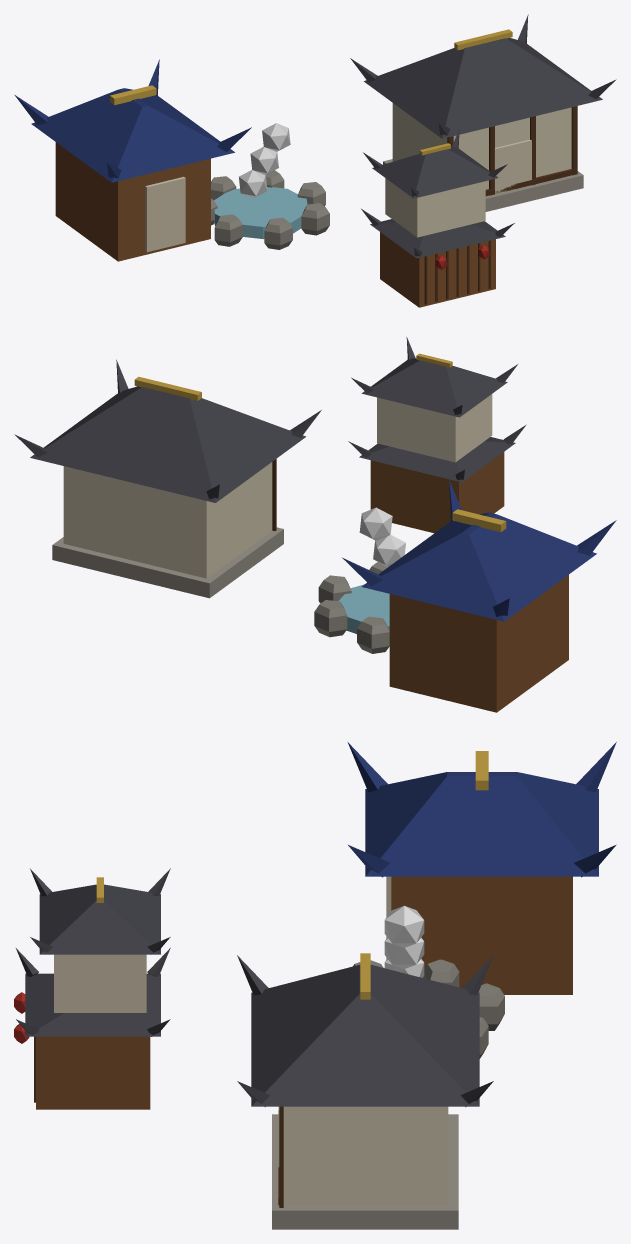
Rendered from macaque_compound_broken.glb.
3 renders of one model, top to bottom at view 1: azimuth 30°, elevation 25°; view 2: azimuth 150°, elevation 25°; view 3: azimuth 270°, elevation 25°, orthographic. The views are drawn at different scales.
Visible parts, largest first — view 1: macaque_compound_piece9, macaque_compound_piece3, macaque_compound_piece0, macaque_compound_piece13, macaque_compound_piece1, macaque_compound_piece4, macaque_compound_piece7, macaque_compound_piece10, macaque_compound_piece2, macaque_compound_piece6, macaque_compound_piece8, macaque_compound_piece5 (+1 smaller); view 2: macaque_compound_piece9, macaque_compound_piece7, macaque_compound_piece1, macaque_compound_piece0, macaque_compound_piece5, macaque_compound_piece4, macaque_compound_piece10, macaque_compound_piece3, macaque_compound_piece2, macaque_compound_piece6, macaque_compound_piece8; view 3: macaque_compound_piece3, macaque_compound_piece9, macaque_compound_piece7, macaque_compound_piece13, macaque_compound_piece4, macaque_compound_piece1, macaque_compound_piece0, macaque_compound_piece5, macaque_compound_piece6, macaque_compound_piece10.
Boxes of the visible parts, x1=… form: macaque_compound_piece9: x1=368, y1=129, x2=514, y2=307; macaque_compound_piece3: x1=467, y1=14, x2=616, y2=202; macaque_compound_piece0: x1=50, y1=97, x2=163, y2=261; macaque_compound_piece13: x1=129, y1=109, x2=246, y2=258; macaque_compound_piece1: x1=421, y1=39, x2=522, y2=211; macaque_compound_piece4: x1=164, y1=170, x2=287, y2=250; macaque_compound_piece7: x1=14, y1=59, x2=201, y2=173; macaque_compound_piece10: x1=382, y1=51, x2=446, y2=132; macaque_compound_piece2: x1=247, y1=79, x2=415, y2=238; macaque_compound_piece6: x1=223, y1=123, x2=384, y2=228; macaque_compound_piece8: x1=260, y1=120, x2=424, y2=249; macaque_compound_piece5: x1=350, y1=58, x2=407, y2=164; macaque_compound_piece9: x1=348, y1=337, x2=526, y2=533; macaque_compound_piece7: x1=342, y1=509, x2=525, y2=686; macaque_compound_piece1: x1=52, y1=389, x2=321, y2=585; macaque_compound_piece0: x1=461, y1=512, x2=616, y2=712; macaque_compound_piece5: x1=92, y1=439, x2=235, y2=598; macaque_compound_piece4: x1=314, y1=555, x2=496, y2=712; macaque_compound_piece10: x1=138, y1=404, x2=282, y2=489; macaque_compound_piece3: x1=14, y1=359, x2=190, y2=540; macaque_compound_piece2: x1=215, y1=478, x2=389, y2=603; macaque_compound_piece6: x1=359, y1=404, x2=468, y2=565; macaque_compound_piece8: x1=231, y1=487, x2=387, y2=576; macaque_compound_piece3: x1=237, y1=960, x2=493, y2=1229; macaque_compound_piece9: x1=14, y1=868, x2=170, y2=1109; macaque_compound_piece7: x1=462, y1=742, x2=616, y2=941; macaque_compound_piece13: x1=365, y1=794, x2=513, y2=965; macaque_compound_piece4: x1=375, y1=931, x2=572, y2=1058; macaque_compound_piece1: x1=237, y1=953, x2=479, y2=1229; macaque_compound_piece0: x1=347, y1=742, x2=480, y2=822; macaque_compound_piece5: x1=429, y1=955, x2=493, y2=1150; macaque_compound_piece6: x1=146, y1=845, x2=424, y2=966; macaque_compound_piece10: x1=379, y1=969, x2=448, y2=1019.
Bounding box in the file's own units: 6.09 × 1.78 × 4.65.
